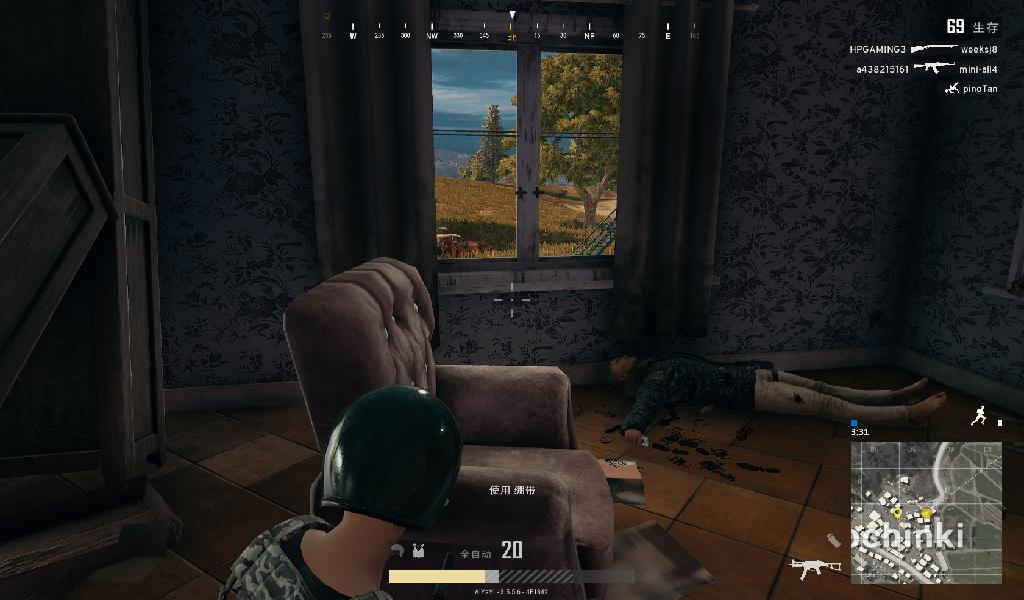Target Person: (204, 383, 489, 600), (588, 331, 954, 448)
